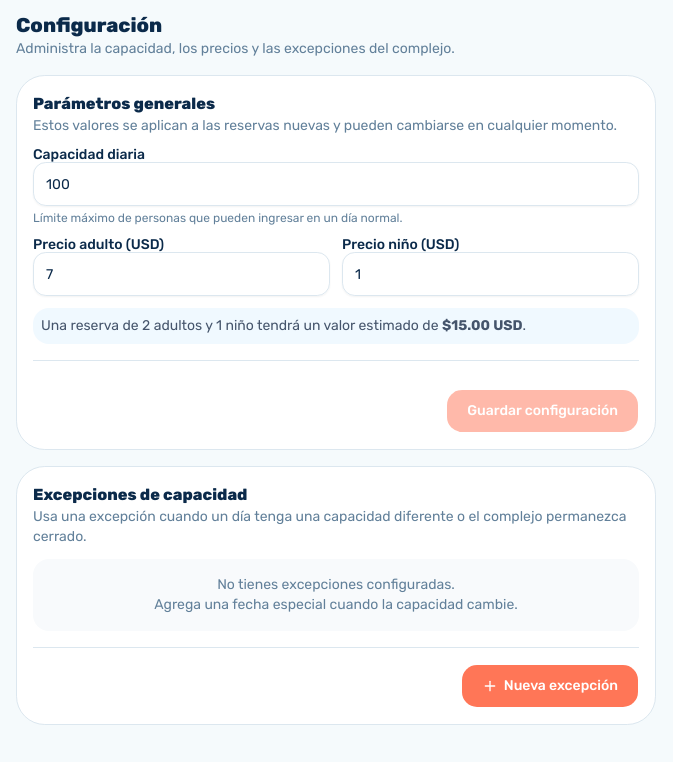
Test: SettingsForm › disables "Guardar configuración" until there are unsaved changes
Check: the button "Guardar configuración" is disabled, box [446,389,639,433]
Replace the text in the number field labelled "Capacidad diaria" with "120": (336, 184) [33,162,639,206]
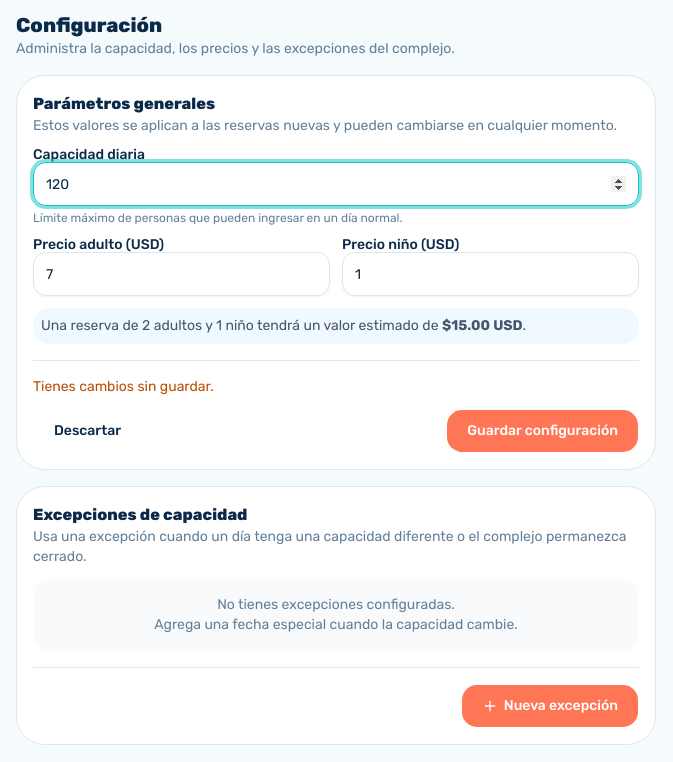
Check: the button "Guardar configuración" is enabled, box [446,409,639,453]
Check: the text "Tienes cambios sin guardar." is shown, box [33,378,214,395]
Note: Descartar reverts to the persisted value and disables save again
Click the button "Descartar": (88, 431) [33,409,142,453]
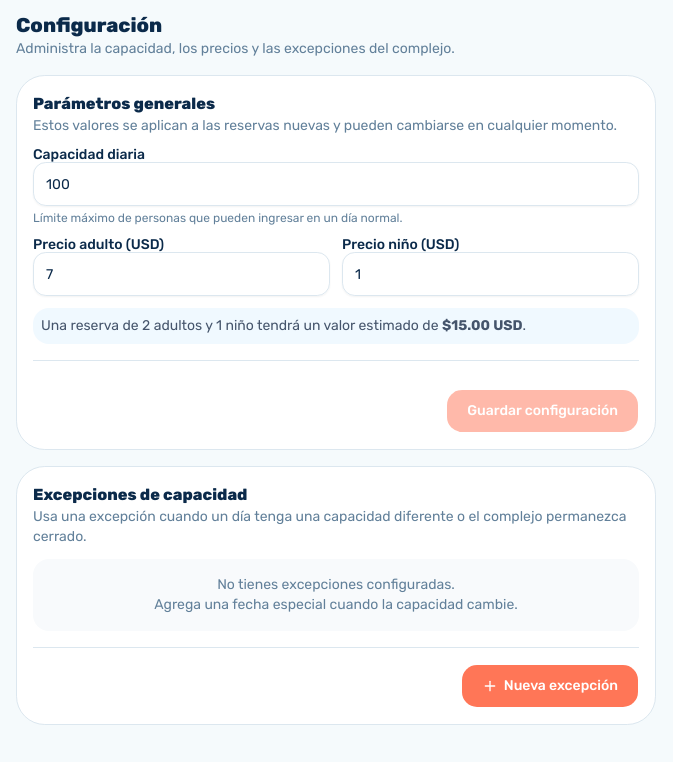
Check: the button "Guardar configuración" is disabled, box [446,389,639,433]
